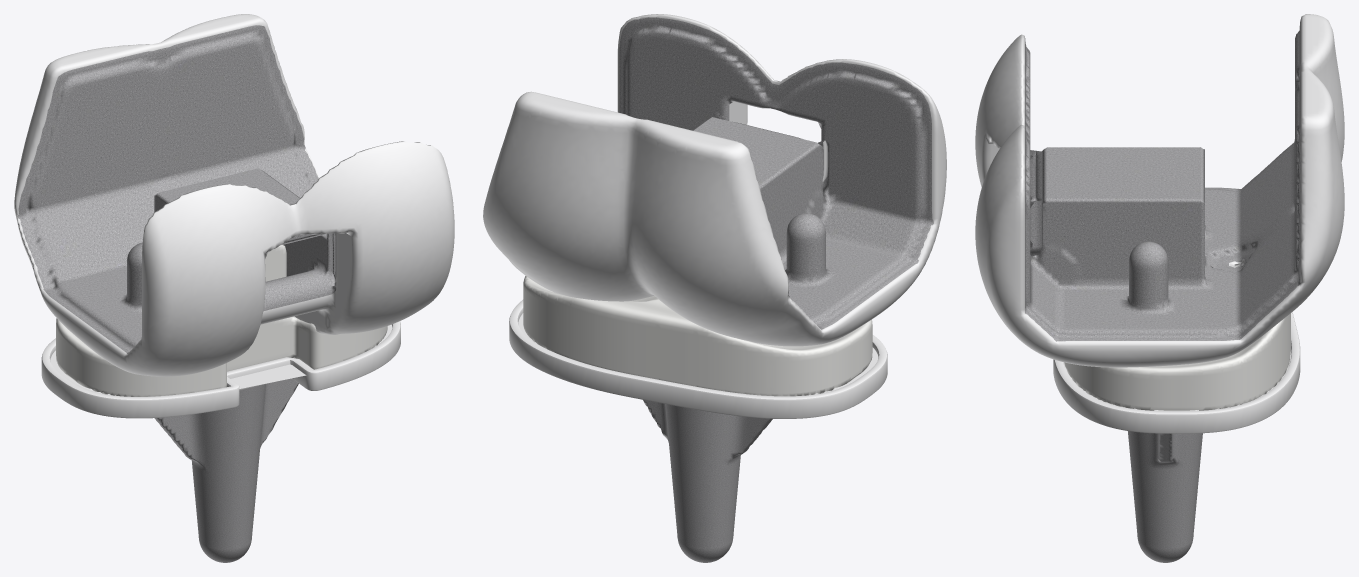
The model's file is tka_mirai_lod0.glb.
3 views of the same model, side by side, from view 1: azimuth 30°, elevation 25°; view 2: azimuth 150°, elevation 25°; view 3: azimuth 270°, elevation 25° (orthographic). The views are drawn at different scales.
Visible parts, largest first — view 1: femoral.001, tray.001, insert.001; view 2: femoral.001, insert.001, tray.001; view 3: femoral.001, tray.001, insert.001.
Part boxes in pixels (box(x1,y1,x2,y2)): femoral.001: box(14, 14, 454, 376); tray.001: box(41, 321, 400, 562); insert.001: box(56, 245, 387, 396); femoral.001: box(483, 14, 946, 346); insert.001: box(523, 276, 872, 396); tray.001: box(509, 299, 887, 562); femoral.001: box(975, 14, 1344, 367); tray.001: box(1053, 312, 1300, 562); insert.001: box(1064, 265, 1290, 410).
Size of the model in its own units: 0.07 by 0.097 by 0.0657.
3 materials, 1 textured.
